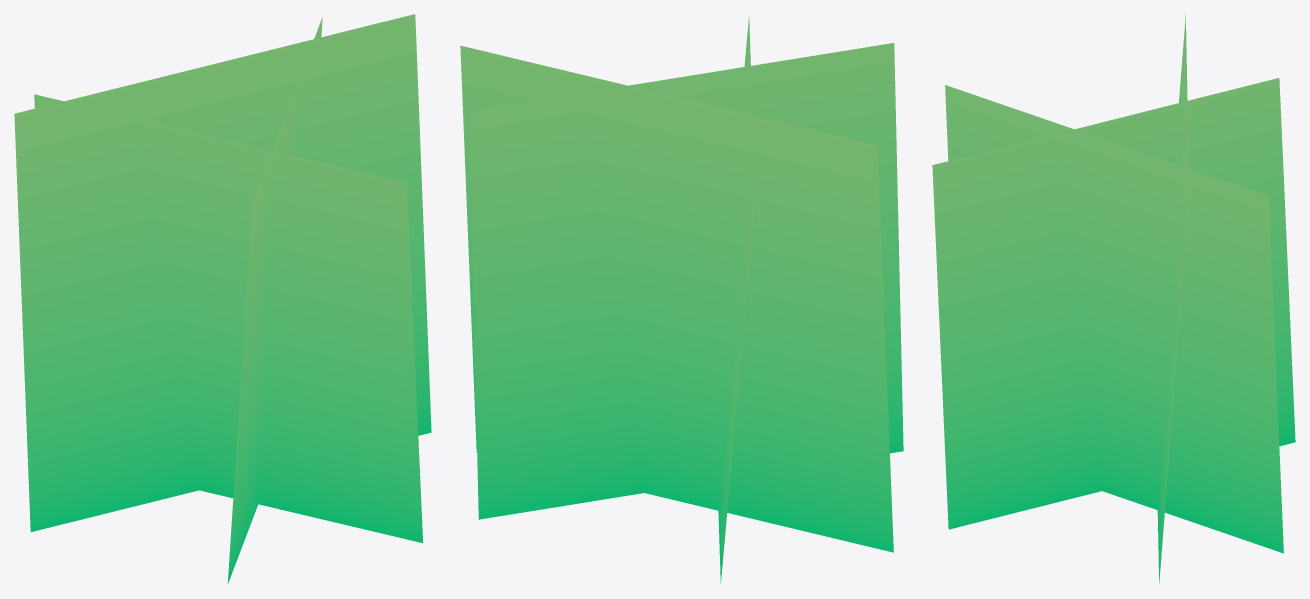
Rendered from Grass_0.6m_A_02.fbx.
3 renders of one model, left to right at view 1: azimuth 30°, elevation 25°; view 2: azimuth 150°, elevation 25°; view 3: azimuth 270°, elevation 25°, orthographic. The views are drawn at different scales.
Visible parts, largest first — view 1: Grass_0.6m_A_02; view 2: Grass_0.6m_A_02; view 3: Grass_0.6m_A_02.
Boxes of the visible parts, box(x1,y1,x2,y2) form: Grass_0.6m_A_02: box(14, 14, 431, 584); Grass_0.6m_A_02: box(460, 15, 903, 584); Grass_0.6m_A_02: box(932, 14, 1295, 583).
Bounding box in the file's own units: 0.6241 × 0.6021 × 0.5149.
